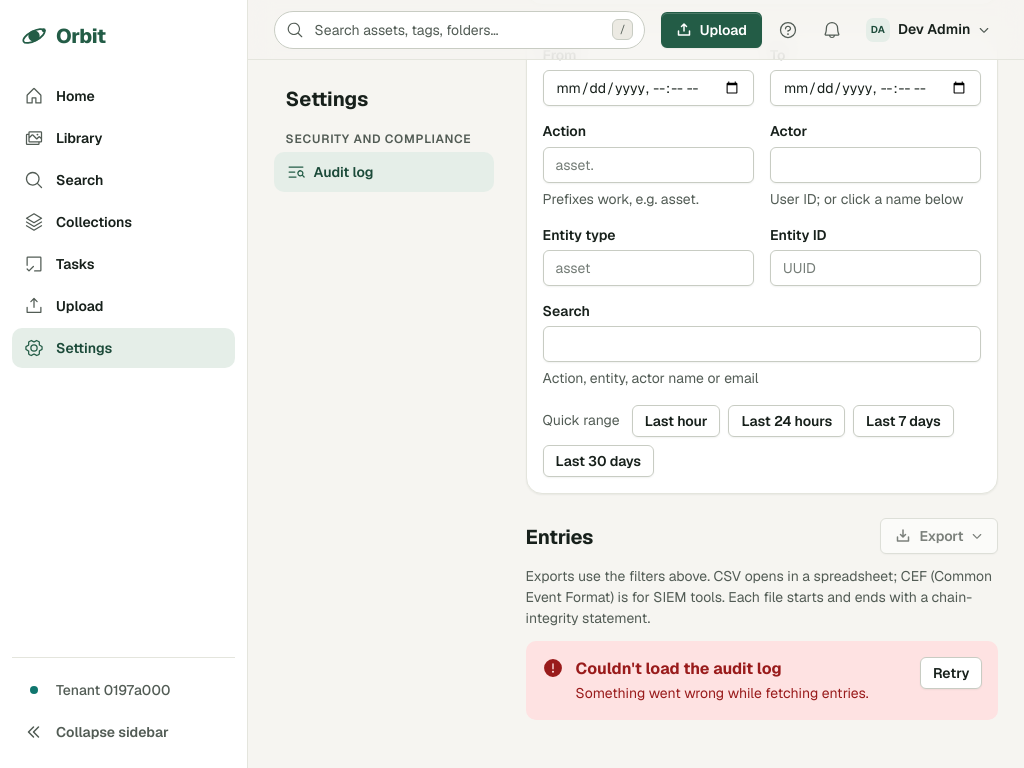
audit page - results › shows an error note with a retry that refetches
(page scrolled)
Expected: the text "Couldn't load the audit log" is shown, 576,658 -> 782,679
Click the button "Retry": (951, 673) 920,657 -> 982,689
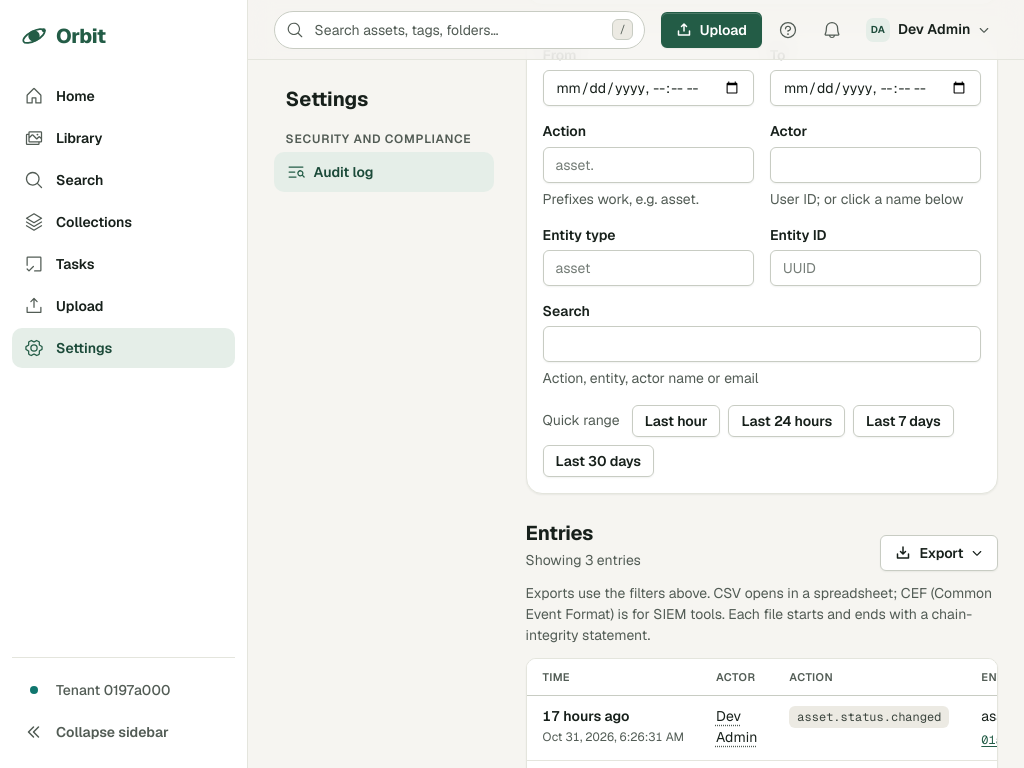
Expected: the text "Showing 3 entries" is shown, 526,550 -> 641,571
